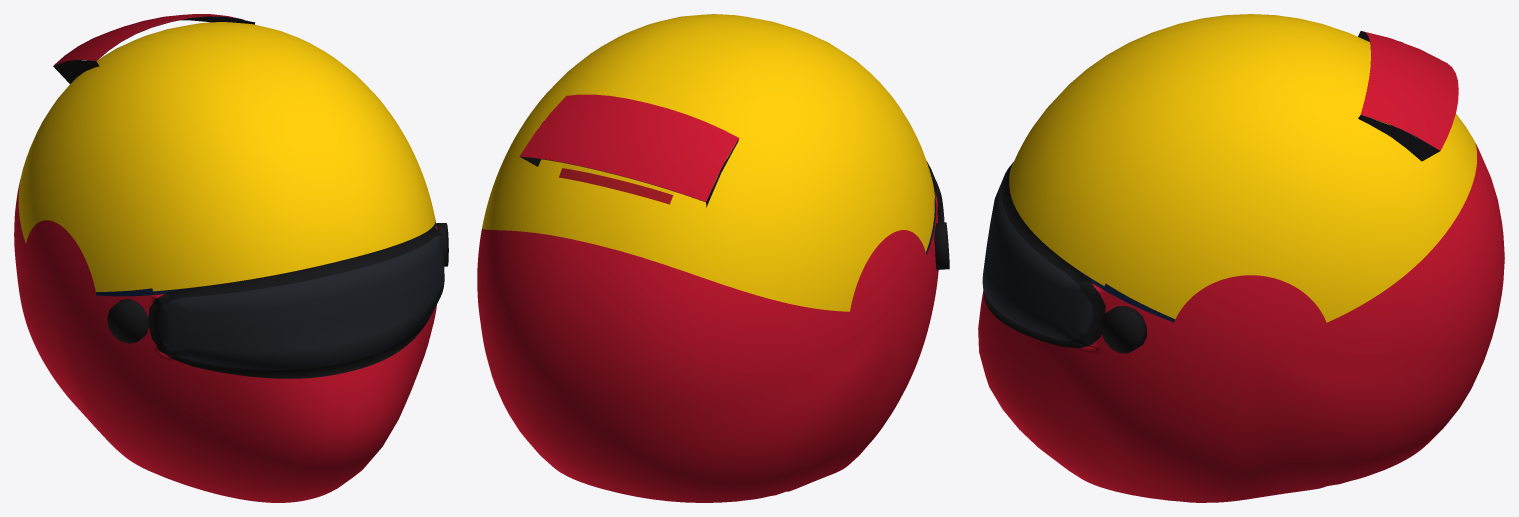
The model's file is SAI.glb.
3 views of the same model, side by side, from view 1: azimuth 30°, elevation 25°; view 2: azimuth 150°, elevation 25°; view 3: azimuth 270°, elevation 25° (orthographic). The views are drawn at different scales.
Parts seen in each view (by area): view 1: helmet; view 2: helmet; view 3: helmet.
Boxes of the visible parts, x1,y1,x2,y2 form: helmet: (14, 14, 448, 502); helmet: (477, 14, 949, 502); helmet: (978, 14, 1504, 502).
Bounding box in the file's own units: 0.256 × 0.2772 × 0.3111.
